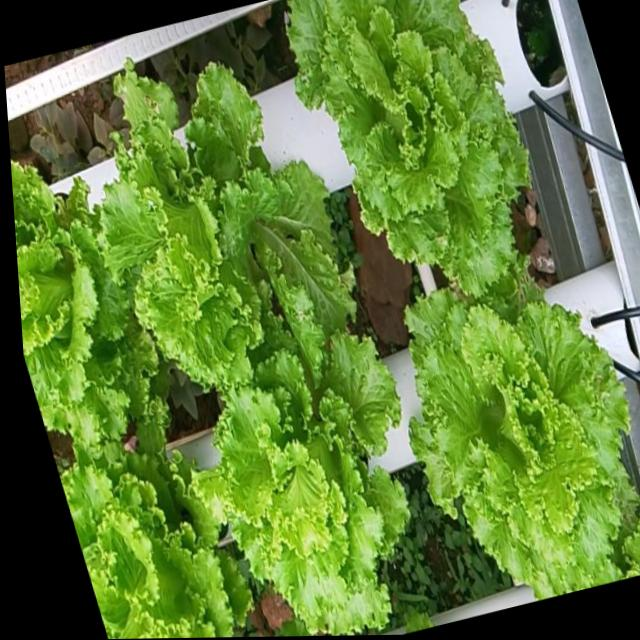Mature: (102, 22, 355, 400), (405, 274, 640, 600), (287, 0, 531, 302), (194, 335, 410, 636), (11, 166, 157, 450), (59, 430, 250, 639)
